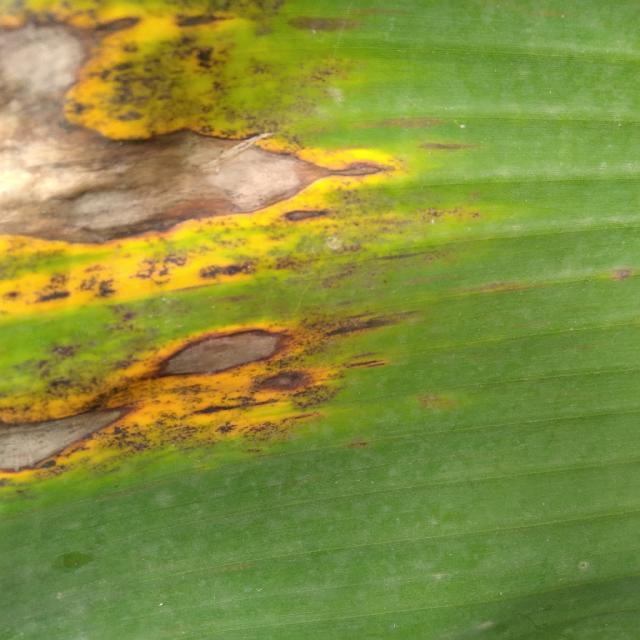Early_rust: (0, 0, 486, 538)
